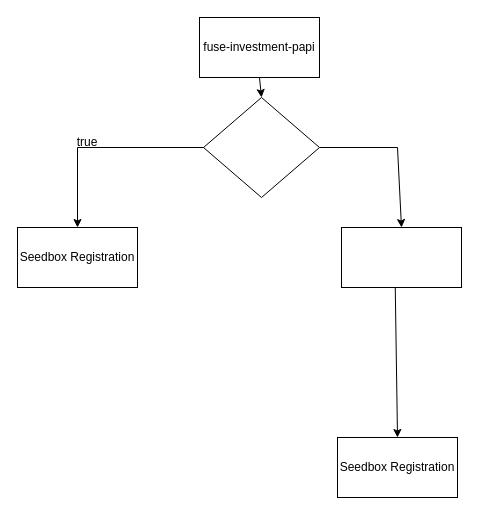
Image size: 479x515. Some labels were removed from this diagram. The shapes that lost their labels are listed below. From the top down, each one's box as (x1, y1, x2, y2) in pixels, then its label:
(202, 96, 320, 198): IIf GFunds BAU
(340, 226, 462, 288): GBuldr Registration
